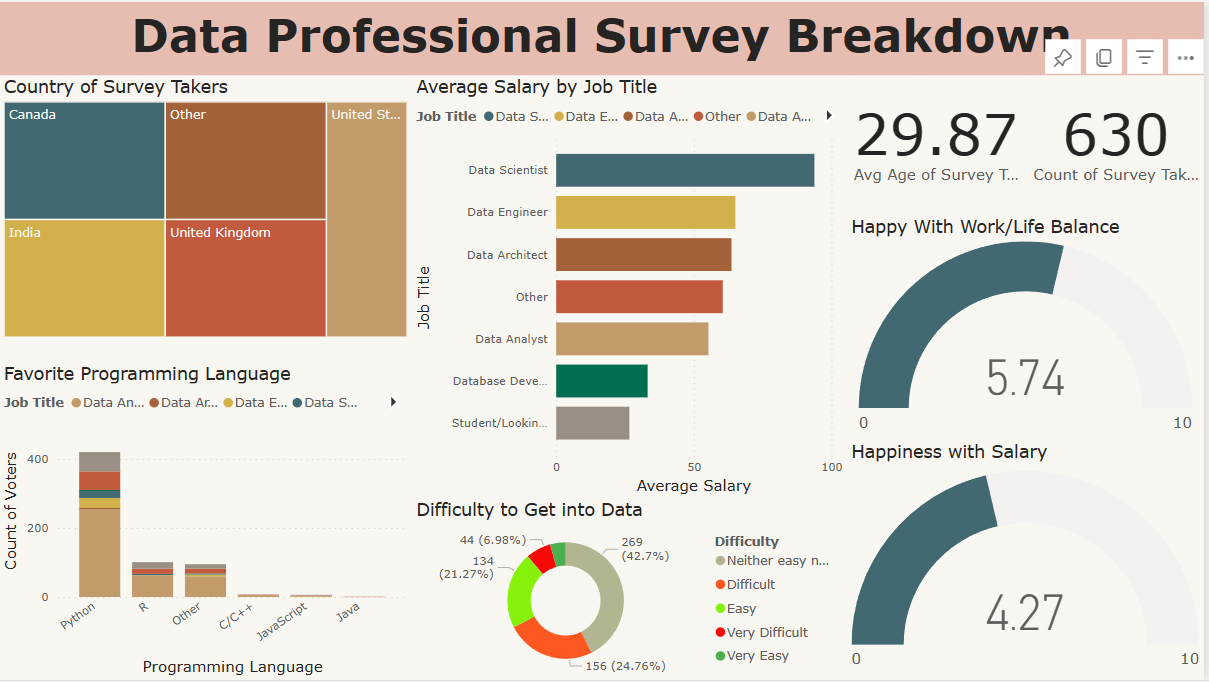

What the dashboard file says about the page in this screenshot:
{"tool":"powerbi","page":{"name":"Page 1","canvas":[1280,720],"ordinal":0},"visuals":[{"type":"textbox","box":[0,0,1280,77.7],"z":0},{"type":"card","fields":{"Values":["Count(Data Professional Survey.Unique ID)"]},"box":[1090.4,77.7,189.6,134.6],"z":1},{"type":"card","fields":{"Values":["Avg(Data Professional Survey.Q10 - Current Age)"]},"box":[900.7,77.7,189.6,134.6],"z":2},{"type":"barChart","title":"Average Salary by Job Title","fields":{"Category":["Data Professional Survey.Q1 - Which Title Best Fits your Current Role?.1"],"Y":["Avg(Data Professional Survey.Average Salary)"],"Series":["Data Professional Survey.Q1 - Which Title Best Fits your Current Role?.1"]},"box":[438,77.7,462.7,449.4],"z":3},{"type":"columnChart","title":"Favorite Programming Language","fields":{"Category":["Data Professional Survey.Q5 - Favorite Programming Language.1"],"Y":["CountNonNull(Data Professional Survey.Unique ID)"],"Series":["Data Professional Survey.Q1 - Which Title Best Fits your Current Role?.1"]},"box":[0,383.1,438,337.5],"z":4},{"type":"treemap","title":"Country of Survey Takers","fields":{"Group":["Data Professional Survey.Q11 - Which Country do you live in?.1"],"Values":["Count(Data Professional Survey.Q11 - Which Country do you live in?.1)"]},"box":[0,77.7,438,282.5],"z":5},{"type":"gauge","title":"Happiness with Salary","fields":{"Y":["Avg(Data Professional Survey.Q6 - How Happy are you in your Current Position with the following? (Salary))"],"MinValue":["Min(Data Professional Survey.Q6 - How Happy are you in your Current Position with the following? (Salary))"],"MaxValue":["Max(Data Professional Survey.Q6 - How Happy are you in your Current Position with the following? (Salary))"]},"box":[900.7,464.6,379.3,256],"z":6},{"type":"gauge","title":"Happy With Work/Life Balance","fields":{"Y":["Avg(Data Professional Survey.Q6 - How Happy are you in your Current Position with the following? (Work/Life Balance))"],"MinValue":["Min(Data Professional Survey.Q6 - How Happy are you in your Current Position with the following? (Work/Life Balance))"],"MaxValue":["Max(Data Professional Survey.Q6 - How Happy are you in your Current Position with the following? (Work/Life Balance))"]},"box":[900.7,225.7,379.3,238.9],"z":7},{"type":"donutChart","title":"Difficulty to Get into Data","fields":{"Category":["Data Professional Survey.Q7 - How difficult was it for you to break into Data?"],"Y":["CountNonNull(Data Professional Survey.Q7 - How difficult was it for you to break into Data?)"]},"box":[438,527.2,462.7,193.4],"z":8}]}

Visuals, with their boxes on the page's 1280x720 design canvas (x1, y1, x2, y2). These are canvas units, not pixel positions in the 1209x682 screenshot, which may show the page scaled, cropped or inside an application window:
textbox: select_region(0, 0, 1280, 78)
card - Count(Data Professional Survey.Unique ID): select_region(1090, 78, 1280, 212)
card - Avg(Data Professional Survey.Q10 - Current Age): select_region(901, 78, 1090, 212)
"Average Salary by Job Title" barChart: select_region(438, 78, 901, 527)
"Favorite Programming Language" columnChart: select_region(0, 383, 438, 721)
"Country of Survey Takers" treemap: select_region(0, 78, 438, 360)
"Happiness with Salary" gauge: select_region(901, 465, 1280, 721)
"Happy With Work/Life Balance" gauge: select_region(901, 226, 1280, 465)
"Difficulty to Get into Data" donutChart: select_region(438, 527, 901, 721)
